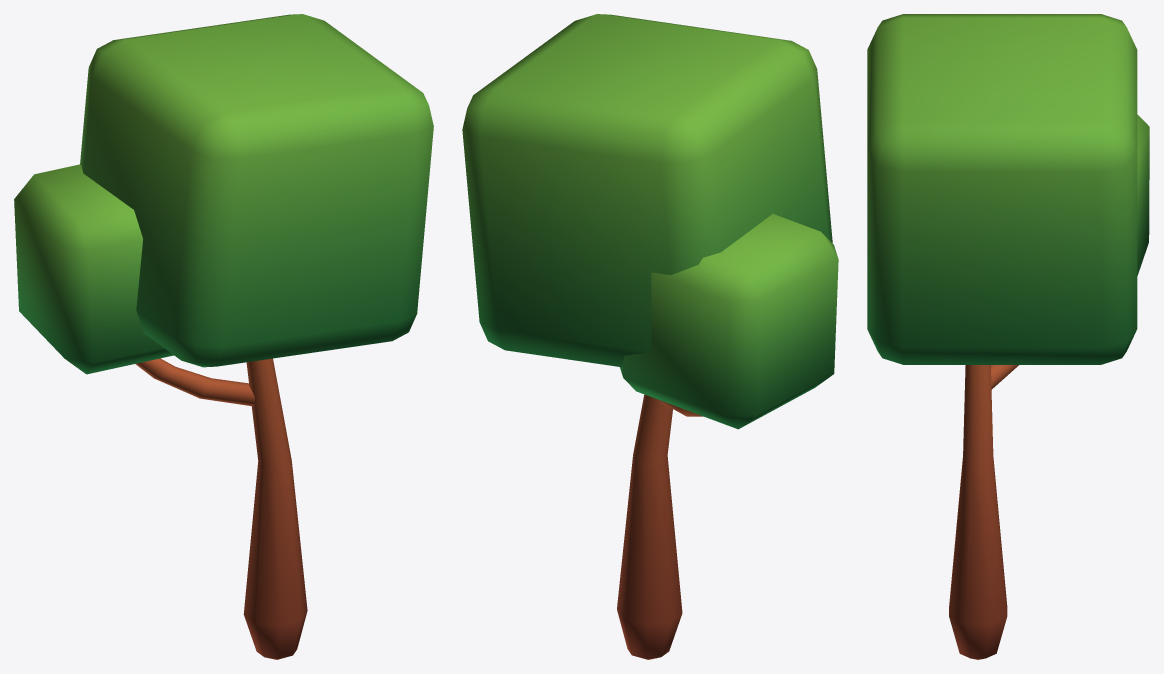
The model's file is Tree_2_A_Color1.fbx.
3 views of the same model, side by side, from view 1: azimuth 30°, elevation 25°; view 2: azimuth 150°, elevation 25°; view 3: azimuth 270°, elevation 25° (orthographic). The views are drawn at different scales.
Parts seen in each view (by area): view 1: Tree_2_A_Color1; view 2: Tree_2_A_Color1; view 3: Tree_2_A_Color1.
Boxes of the visible parts, x1=… form: Tree_2_A_Color1: x1=14, y1=14, x2=433, y2=659; Tree_2_A_Color1: x1=462, y1=14, x2=838, y2=659; Tree_2_A_Color1: x1=867, y1=14, x2=1149, y2=659.
Bounding box in the file's own units: 2.6 × 4.67 × 2.
